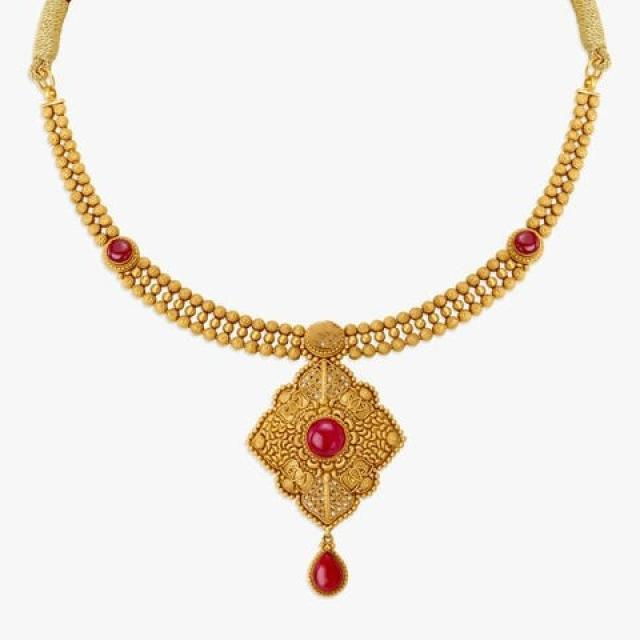missing gem: (307, 322, 342, 352)
